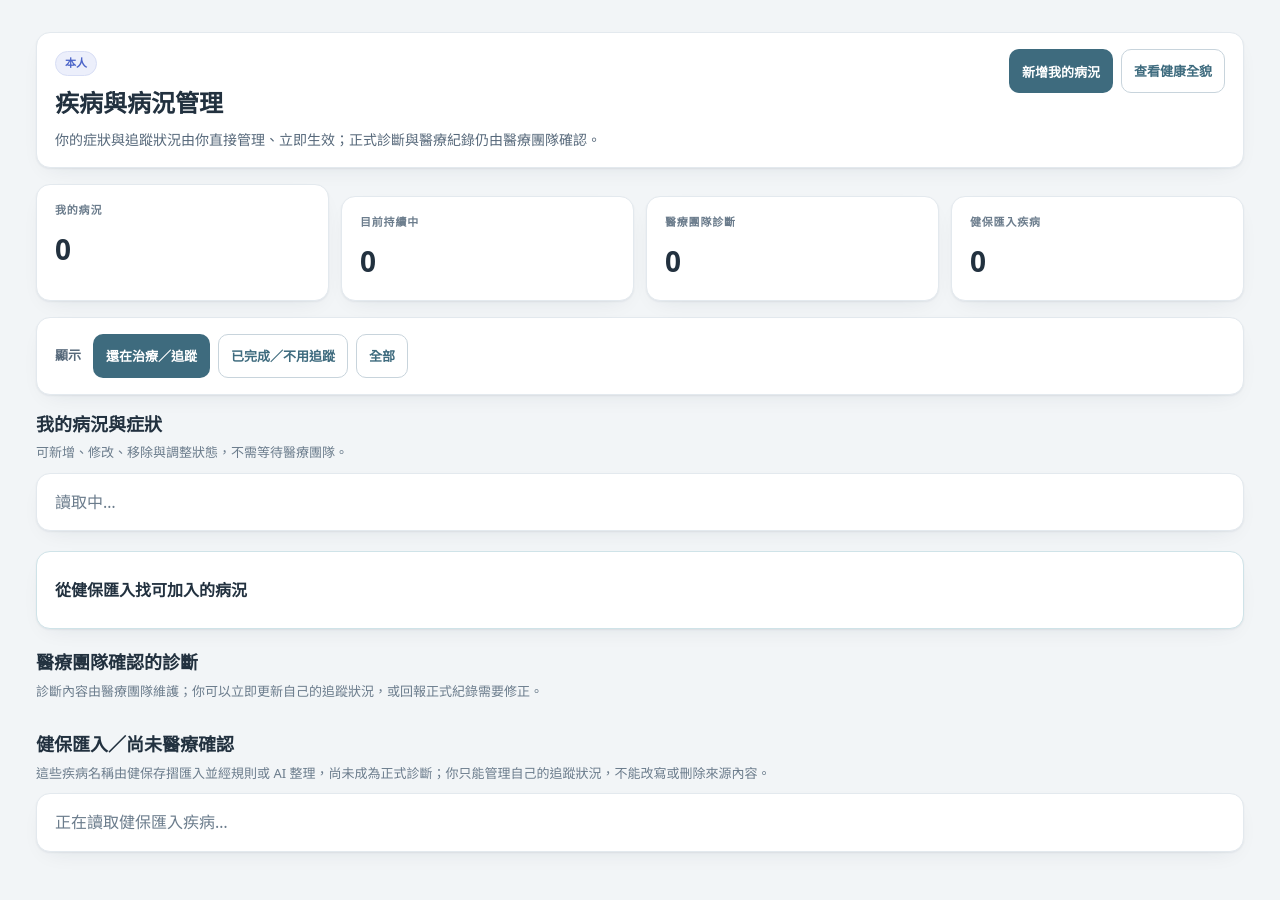
Test case: ConditionsPage NHI disease management › keeps candidate API errors separate from an empty candidate state
Click the heading "從健保匯入找可加入的病況" at (151, 590), box [55,579,247,601]
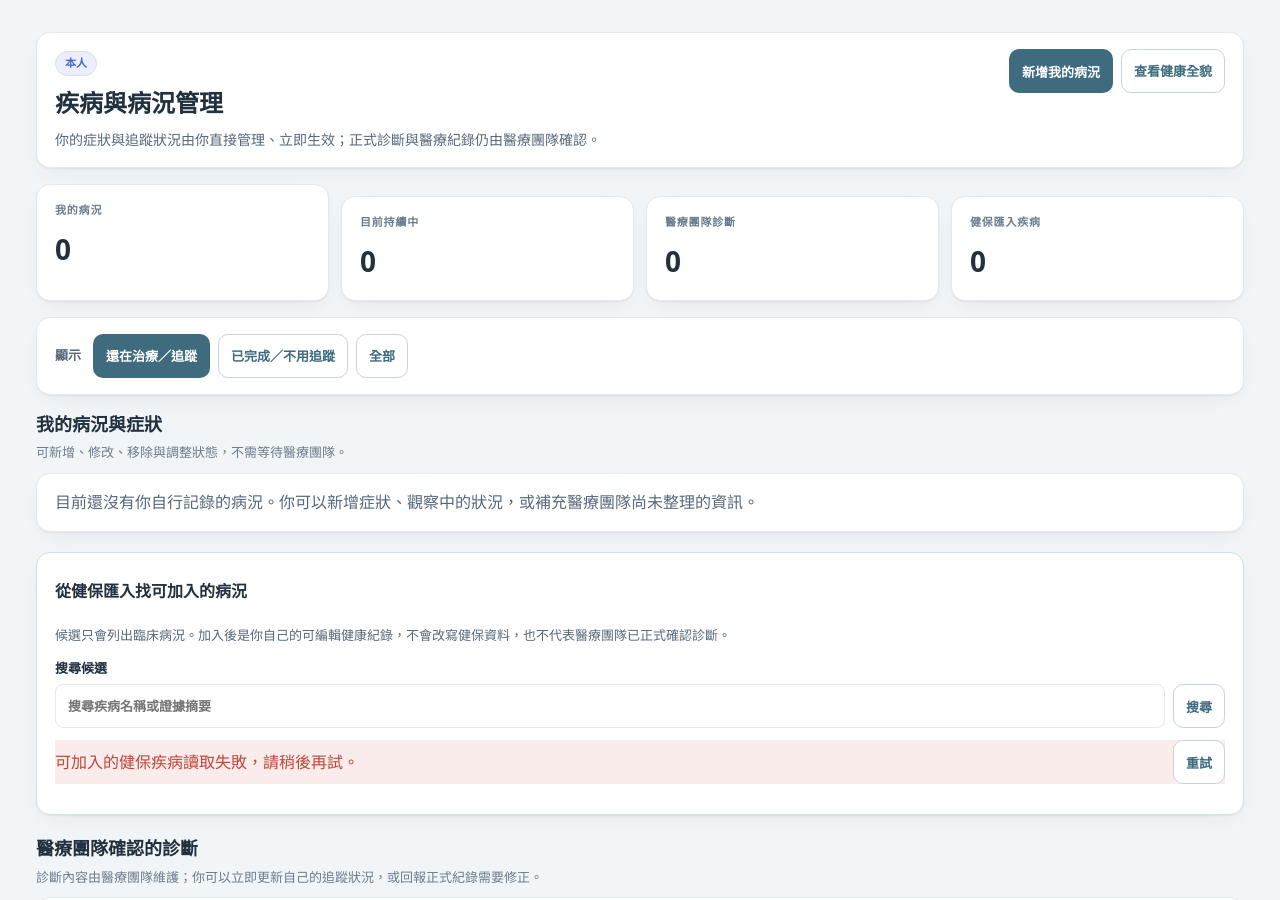
Now the message shows "可加入的健保疾病讀取失敗", box [55,751,359,773]
